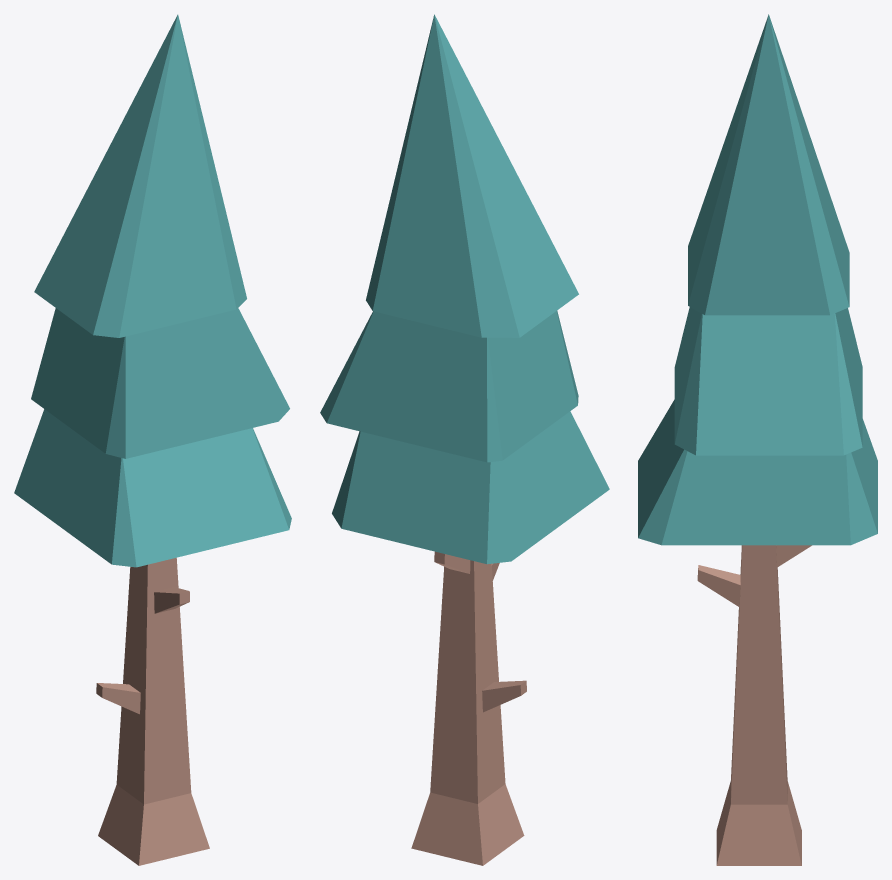
The model's file is tree_pineTallA_detailed.glb.
3 renders of one model, left to right at view 1: azimuth 30°, elevation 25°; view 2: azimuth 150°, elevation 25°; view 3: azimuth 270°, elevation 25°, orthographic. The views are drawn at different scales.
Visible parts, largest first — view 1: tree_pineTallA_detailed; view 2: tree_pineTallA_detailed; view 3: tree_pineTallA_detailed.
Boxes of the visible parts, x1,y1,x2,y2 form: tree_pineTallA_detailed: [14, 14, 291, 865]; tree_pineTallA_detailed: [320, 14, 609, 865]; tree_pineTallA_detailed: [638, 14, 877, 865].
Size of the model in its own units: 0.3863 by 1.53 by 0.392.
